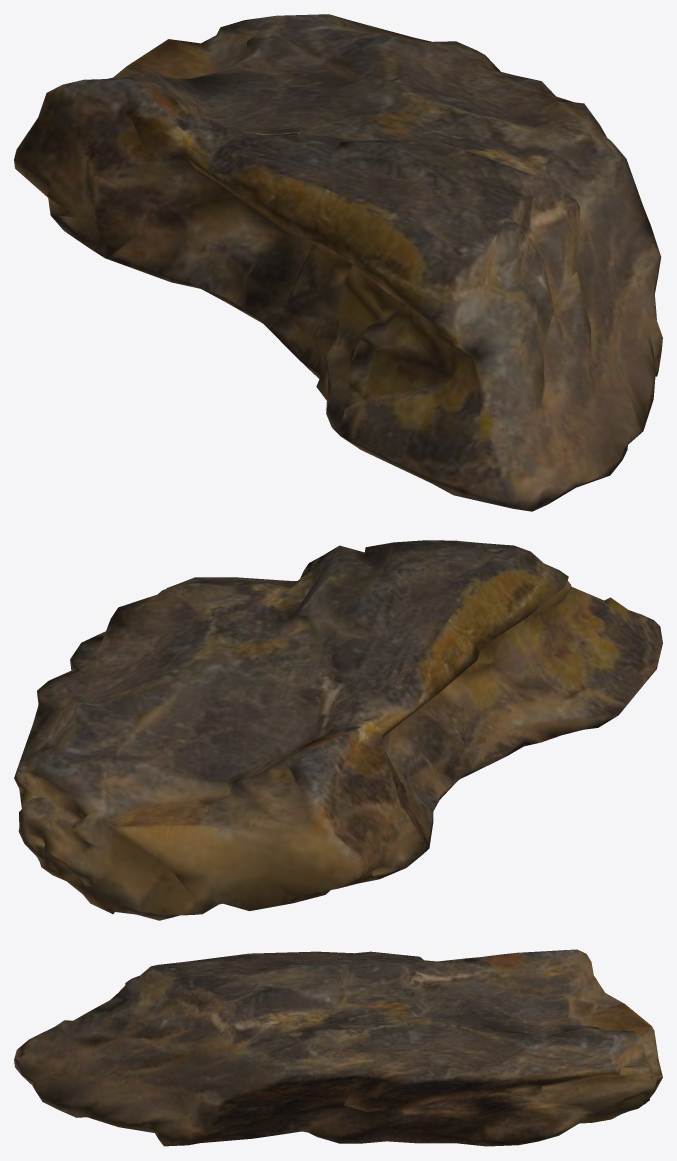
Rendered from rock-09.glb.
3 renders of one model, top to bottom at view 1: azimuth 30°, elevation 25°; view 2: azimuth 150°, elevation 25°; view 3: azimuth 270°, elevation 25°, orthographic. The views are drawn at different scales.
Parts seen in each view (by area): view 1: rock_09; view 2: rock_09; view 3: rock_09.
Boxes of the visible parts, box(x1,y1,x2,y2) form: rock_09: box(14, 14, 662, 511); rock_09: box(14, 540, 662, 920); rock_09: box(14, 949, 662, 1146).
Bounding box in the file's own units: 0.0738 × 0.0324 × 0.1446.
Materials: 1 (1 with a texture image).
